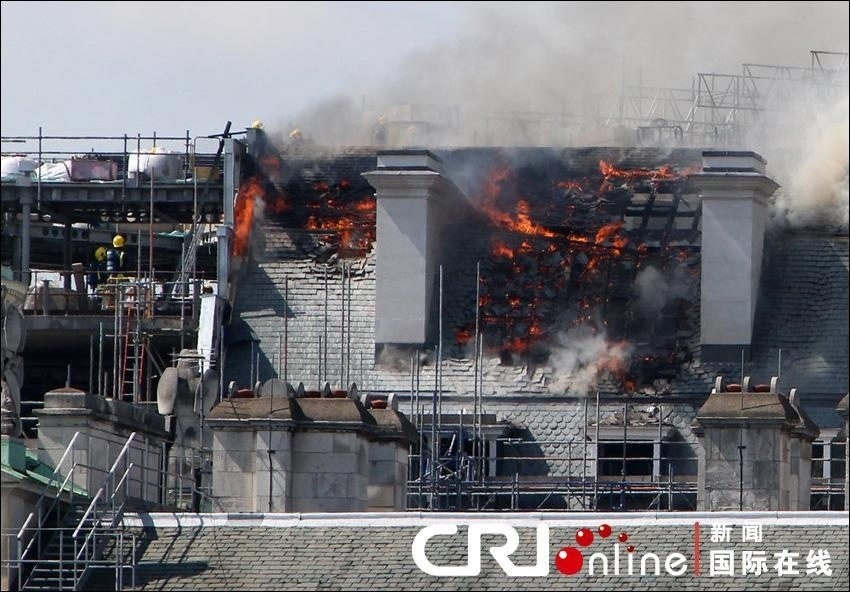fire: (462, 158, 677, 376), (227, 137, 376, 252)
